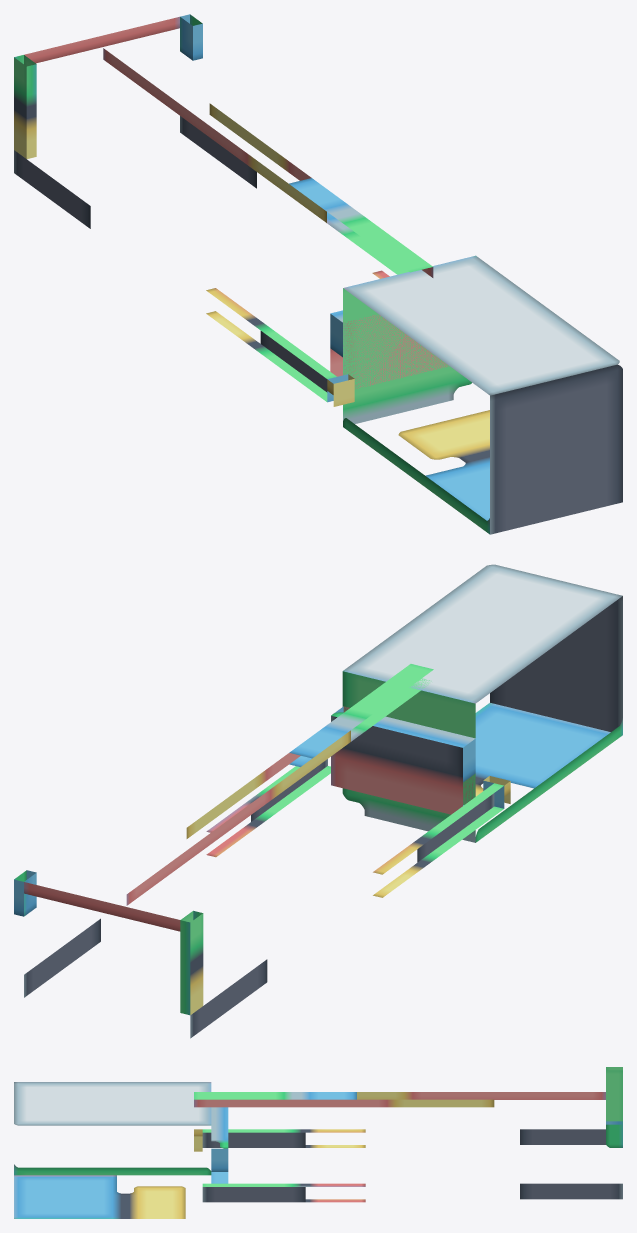
File: launcher_turret_breach.obj
3 renders of one model, top to bottom at view 1: azimuth 30°, elevation 25°; view 2: azimuth 150°, elevation 25°; view 3: azimuth 270°, elevation 25°, orthographic. The views are drawn at different scales.
Visible parts, largest first — view 1: cube, cube.009, cube.005, cube.001, cube.006, cube.008, cube.003, cube.007, cube.002; view 2: cube, cube.001, cube.009, cube.005, cube.003, cube.006, cube.008, cube.007; view 3: cube, cube.009, cube.003, cube.005, cube.001, cube.006, cube.007.
Boxes of the visible parts, x1,y1,x2,y2 form: cube: (343,255,622,534); cube.009: (103,48,433,277); cube.005: (14,150,336,401); cube.001: (330,310,449,389); cube.006: (14,55,36,158); cube.008: (24,16,179,63); cube.003: (180,116,389,278); cube.007: (180,14,202,60); cube.002: (327,374,354,406); cube: (342,564,622,842); cube.001: (331,706,475,814); cube.009: (126,664,433,905); cube.005: (190,783,503,1038); cube.003: (24,759,330,997); cube.006: (180,910,203,1015); cube.008: (24,882,180,931); cube.007: (14,870,36,916); cube: (14,1082,211,1218); cube.009: (194,1092,605,1107); cube.003: (202,1183,622,1202); cube.005: (202,1129,605,1147); cube.001: (211,1107,228,1183); cube.006: (606,1067,622,1121); cube.007: (606,1121,622,1147).
Size of the model in its own units: 0.9938 by 0.8125 by 4.44.
